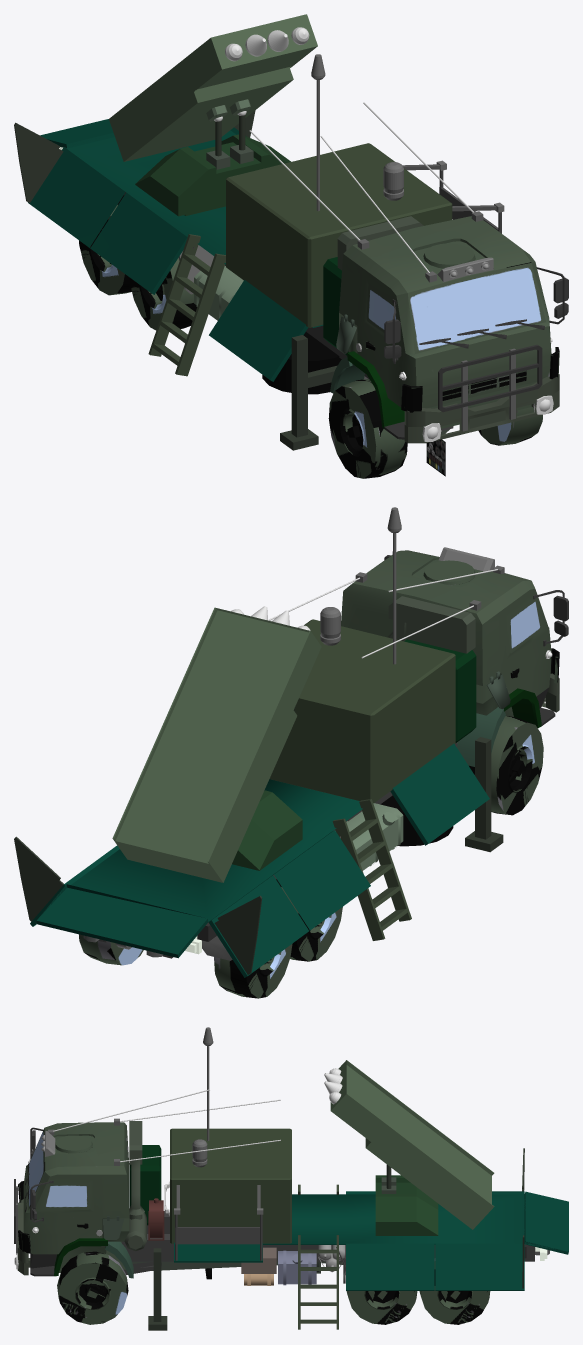
Rendered from ladder-not-cracked(green).fbx.
3 renders of one model, top to bottom at view 1: azimuth 30°, elevation 25°; view 2: azimuth 150°, elevation 25°; view 3: azimuth 270°, elevation 25°, orthographic. The views are drawn at different scales.
Visible parts, largest first — view 1: Куб.131, Куб.136, Cube, Cube.002, Цилиндр.051, Cube.001, Cube.008, Куб.096, Cube.016, Cube.011, Cube.007, Цилиндр.053 (+17 smaller); view 2: Cube.002, Куб.136, Cube, Куб.131, Цилиндр.051, Cube.008, Цилиндр.059, Cube.001, Цилиндр.001, Cube.015, Cube.010, Cube.011 (+10 smaller); view 3: Куб.136, Куб.131, Cube, Cube.002, Цилиндр.051, Cube.001, Цилиндр.001, Цилиндр.053, Цилиндр.059, Куб.118, Cube.018, Cube.015 (+16 smaller).
Part boxes in pixels (x1,y1,x2,y2): Куб.131: [339, 216, 559, 428]; Куб.136: [28, 119, 323, 381]; Cube: [226, 143, 452, 327]; Cube.002: [109, 14, 317, 161]; Цилиндр.051: [328, 379, 542, 478]; Cube.001: [135, 134, 290, 216]; Cube.008: [148, 234, 225, 376]; Куб.096: [404, 374, 559, 443]; Cube.016: [280, 335, 337, 450]; Cube.011: [14, 122, 63, 202]; Cube.007: [438, 344, 542, 412]; Цилиндр.053: [129, 258, 196, 330]; Cube.002: [112, 607, 321, 882]; Куб.136: [30, 743, 489, 977]; Cube: [269, 619, 455, 803]; Куб.131: [341, 550, 559, 743]; Цилиндр.051: [469, 716, 543, 815]; Cube.008: [332, 799, 411, 940]; Цилиндр.059: [387, 596, 475, 653]; Cube.001: [232, 790, 302, 870]; Цилиндр.001: [79, 934, 292, 998]; Cube.015: [404, 639, 476, 742]; Cube.010: [14, 836, 63, 924]; Cube.011: [214, 895, 262, 974]; Куб.136: [174, 1191, 568, 1290]; Куб.131: [18, 1122, 129, 1272]; Cube: [170, 1128, 291, 1243]; Cube.002: [330, 1060, 494, 1229]; Цилиндр.051: [57, 1251, 128, 1324]; Cube.001: [375, 1175, 438, 1235]; Цилиндр.001: [419, 1258, 490, 1324]; Цилиндр.053: [346, 1291, 417, 1324]; Цилиндр.059: [124, 1121, 146, 1251]; Куб.118: [121, 1211, 534, 1274]; Cube.018: [175, 1227, 259, 1244]; Cube.015: [129, 1145, 161, 1225].
Bounding box in the file's own units: 750 × 1057 × 2012.
66 materials, 5 textured.
